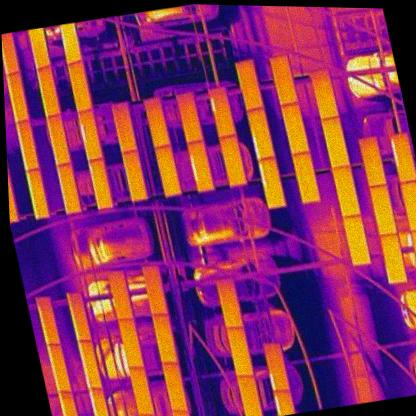Diode: (245, 106, 275, 160), (261, 339, 291, 393), (207, 85, 236, 138), (256, 157, 286, 208), (387, 132, 416, 184), (65, 290, 92, 344), (186, 139, 214, 191), (76, 338, 102, 391), (77, 109, 103, 161), (87, 385, 110, 416)
Hotspot: (88, 158, 114, 210)
Normal: (225, 324, 255, 379), (377, 232, 408, 285), (140, 261, 169, 317), (267, 53, 298, 105), (342, 214, 372, 267), (280, 102, 310, 155), (309, 67, 339, 120), (233, 57, 263, 110), (215, 276, 244, 330), (320, 115, 349, 169), (330, 165, 360, 217), (291, 151, 320, 204), (218, 134, 247, 187), (160, 360, 188, 414), (357, 135, 386, 187), (153, 144, 182, 196), (151, 312, 179, 365), (175, 90, 203, 143), (142, 95, 170, 148), (127, 363, 155, 416), (34, 294, 61, 348), (110, 99, 137, 153), (106, 269, 134, 321), (369, 184, 397, 236), (13, 119, 40, 170), (4, 72, 31, 123), (118, 317, 144, 369), (56, 162, 82, 214), (121, 149, 147, 201), (66, 60, 92, 112), (235, 372, 264, 416), (46, 342, 71, 393), (24, 168, 49, 218), (35, 66, 60, 116), (46, 113, 70, 165), (57, 22, 82, 65), (26, 27, 51, 69), (399, 179, 416, 231), (1, 31, 20, 74), (57, 388, 81, 416), (409, 228, 416, 279)
